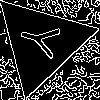Y: (16, 18, 70, 63)
